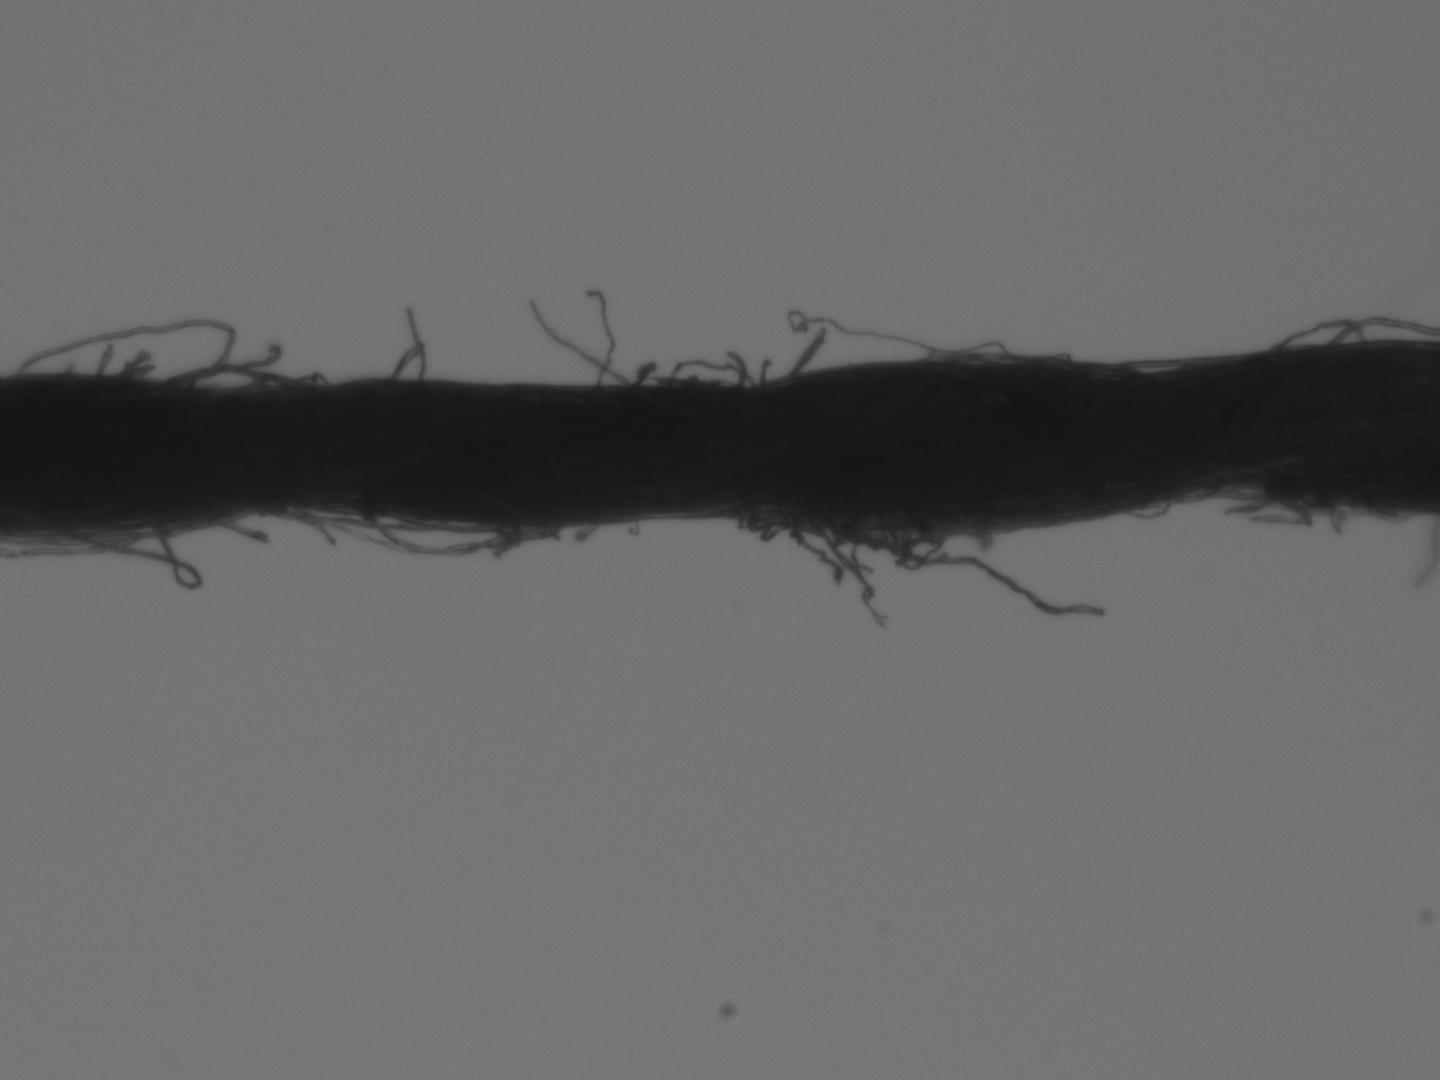loop_fiber: (15, 321, 232, 385), (362, 509, 509, 557), (807, 513, 931, 551), (1330, 312, 1434, 346), (1261, 483, 1364, 517), (1277, 317, 1370, 354), (166, 362, 296, 387), (669, 356, 754, 390), (16, 526, 138, 548), (380, 509, 500, 531), (1119, 496, 1172, 521), (1126, 356, 1189, 372)
protruding_fiber: (887, 532, 1107, 617), (531, 298, 621, 389), (587, 290, 616, 386), (787, 327, 824, 381), (213, 517, 268, 547), (405, 307, 425, 380)
